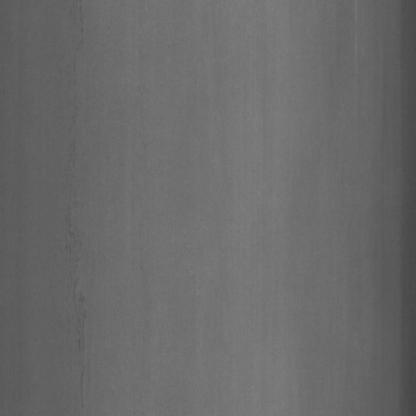silk_spot: (52, 122, 98, 382)
